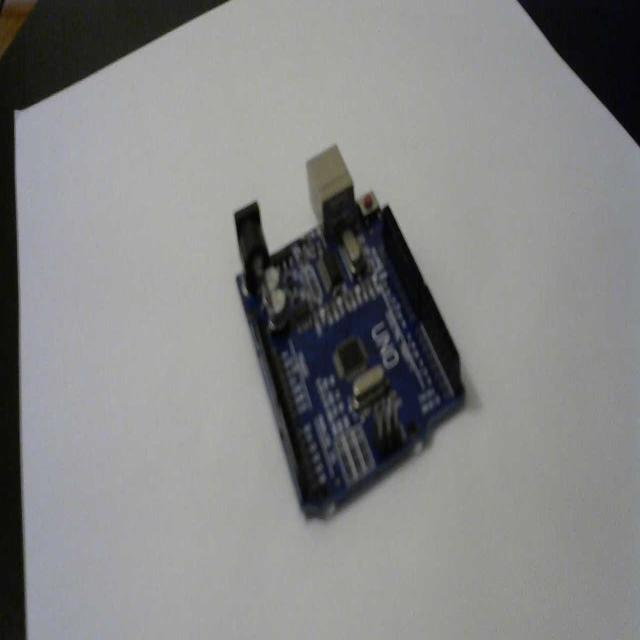arduino: (231, 138, 469, 526)
